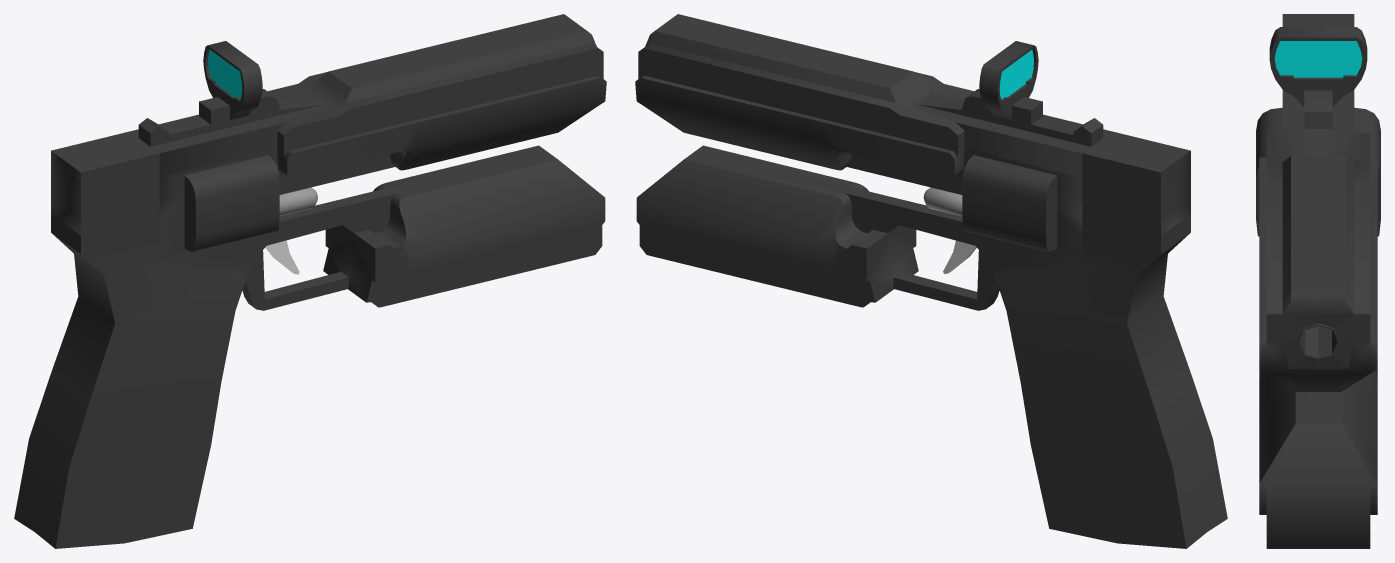
Rendered from GunNina_02.fbx.
3 views of the same model, side by side, from view 1: azimuth 30°, elevation 25°; view 2: azimuth 150°, elevation 25°; view 3: azimuth 270°, elevation 25° (orthographic). The views are drawn at different scales.
Visible parts, largest first — view 1: RailGun, CristalMira, Cylinder001; view 2: RailGun, CristalMira, Cylinder001; view 3: RailGun, CristalMira.
Part boxes in pixels (left/top/right/bottom): RailGun: left=14, top=14, right=606, bottom=548; CristalMira: left=208, top=50, right=242, bottom=99; Cylinder001: left=279, top=187, right=317, bottom=215; RailGun: left=635, top=14, right=1227, bottom=548; CristalMira: left=999, top=50, right=1033, bottom=99; Cylinder001: left=923, top=187, right=962, bottom=216; RailGun: left=1256, top=14, right=1380, bottom=548; CristalMira: left=1274, top=41, right=1362, bottom=77.
Size of the model in its own units: 19.7 by 15.24 by 3.26.
